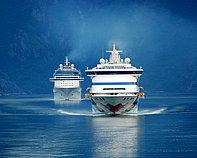Ship: (84, 41, 148, 118)
